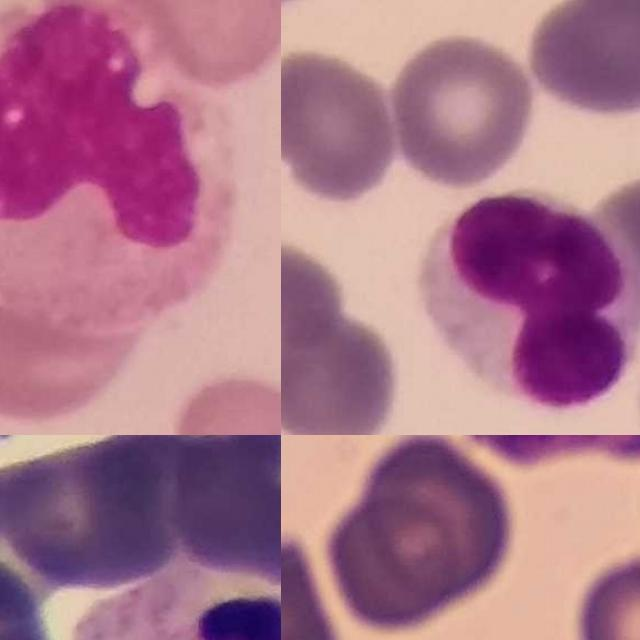Lymphocyte: (420, 187, 640, 408)
Monocyte: (0, 0, 233, 331)
Neutrophil: (69, 568, 281, 640)
